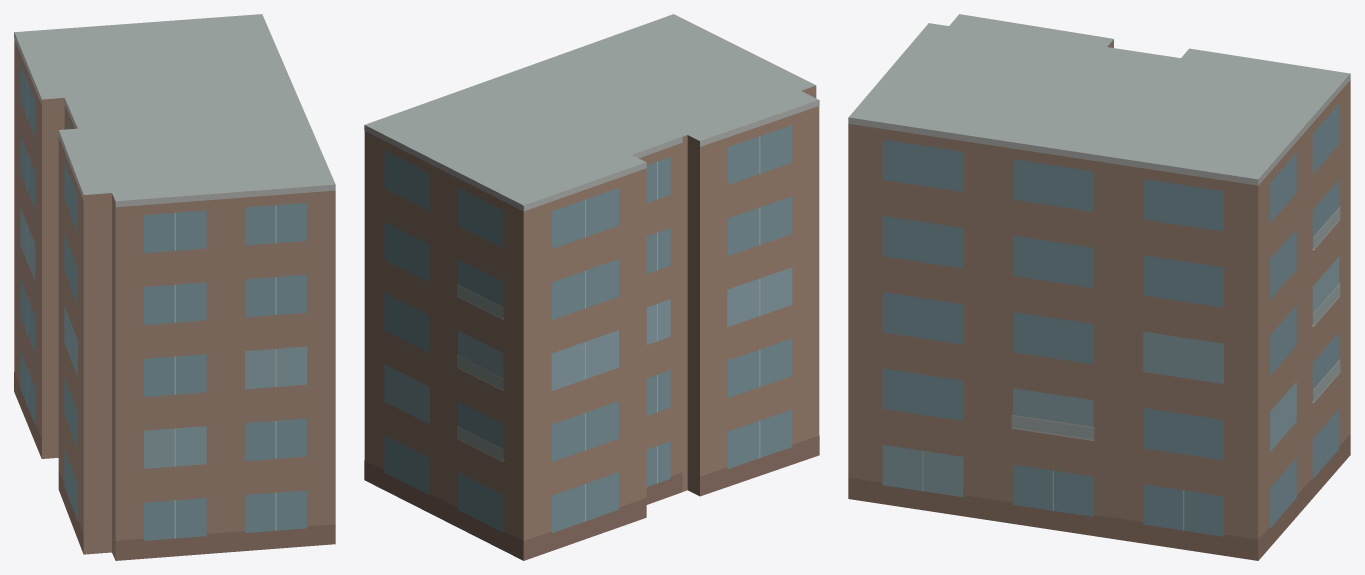
The model's file is survey-upis-32960926.glb.
3 views of the same model, side by side, from view 1: azimuth 30°, elevation 25°; view 2: azimuth 150°, elevation 25°; view 3: azimuth 270°, elevation 25° (orthographic). The views are drawn at different scales.
Visible parts, largest first — view 1: survey-upis-32960926.tmp; view 2: survey-upis-32960926.tmp; view 3: survey-upis-32960926.tmp.
Boxes of the visible parts, bbox=[...] form: survey-upis-32960926.tmp: bbox=[14, 14, 335, 560]; survey-upis-32960926.tmp: bbox=[364, 14, 819, 560]; survey-upis-32960926.tmp: bbox=[848, 14, 1350, 560].
Bounding box in the file's own units: 13.77 × 14.8 × 17.66.
